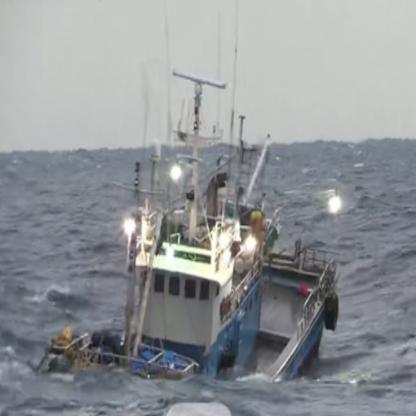fish-b: (51, 3, 347, 395)
